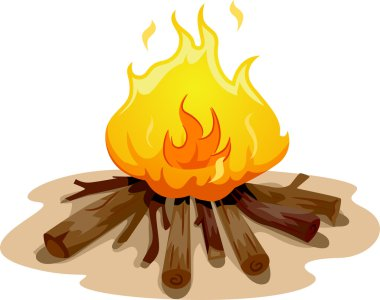fire: (113, 14, 292, 199)
